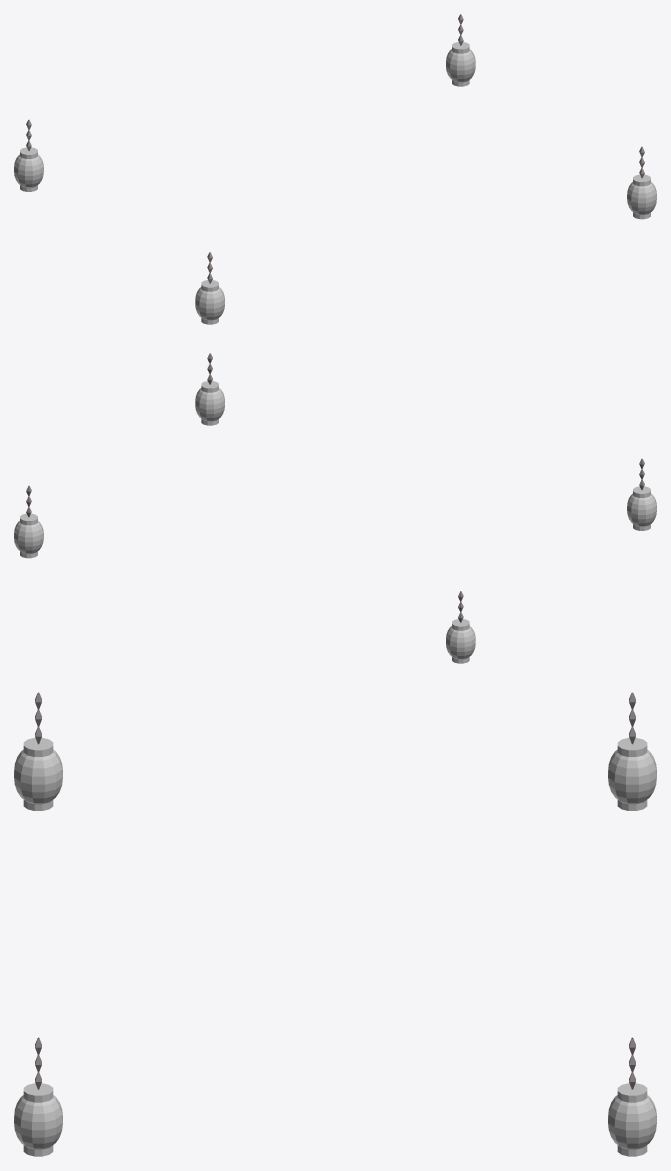
File: SM_ENV_KNVLLG_AreaJ_Building_A_Lanterns.mo.fbx
The picture shows the model from 3 angles, top to bottom: view 1: azimuth 30°, elevation 25°; view 2: azimuth 150°, elevation 25°; view 3: azimuth 270°, elevation 25°; orthographic projection. The views are drawn at different scales.
Parts seen in each view (by area): view 1: SM_ENV_KNVLLG_AreaJ_Building_A_Lanterns.mo; view 2: SM_ENV_KNVLLG_AreaJ_Building_A_Lanterns.mo; view 3: SM_ENV_KNVLLG_AreaJ_Building_A_Lanterns.mo.
Part boxes in pixels (x1,y1,x2,y2): SM_ENV_KNVLLG_AreaJ_Building_A_Lanterns.mo: [14, 14, 656, 324]; SM_ENV_KNVLLG_AreaJ_Building_A_Lanterns.mo: [14, 353, 656, 663]; SM_ENV_KNVLLG_AreaJ_Building_A_Lanterns.mo: [14, 692, 656, 1156].
Bounding box in the file's own units: 34.13 × 4.89 × 25.33.
